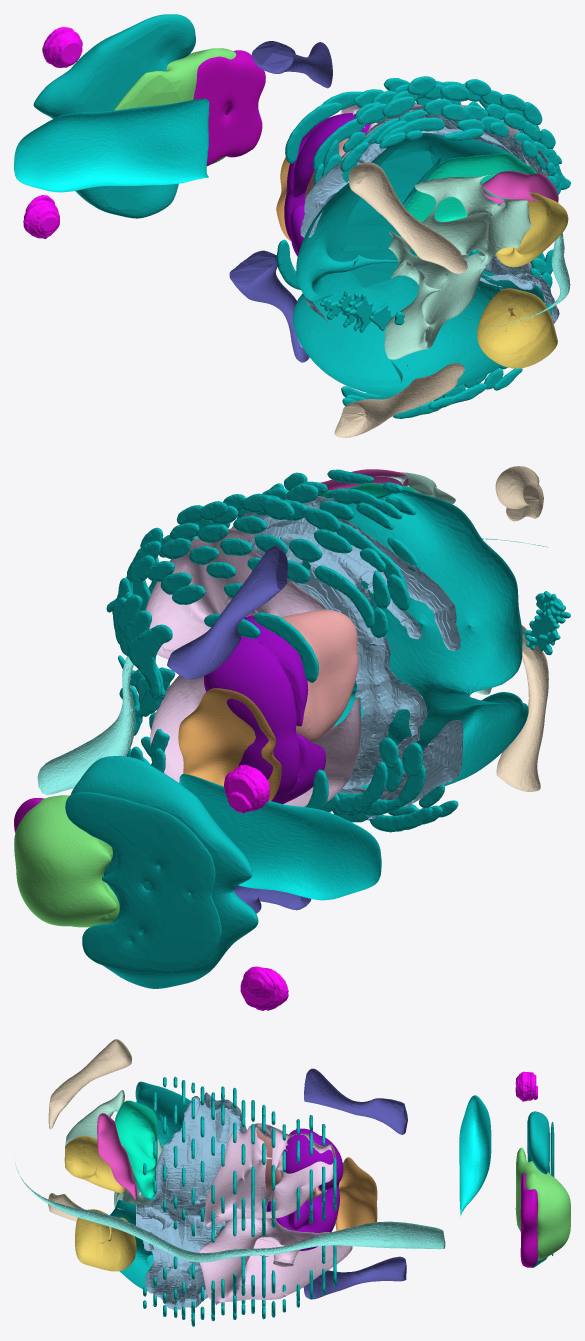
3 renders of one model, top to bottom at view 1: azimuth 30°, elevation 25°; view 2: azimuth 150°, elevation 25°; view 3: azimuth 270°, elevation 25°, orthographic. The views are drawn at different scales.
Parts seen in each view (by area): view 1: EMAPA16846, EMAPA18010, EMAPA17185, EMAPA17503, EMAPA16895, EMAPA17373, EMAPA19143, EMAPA16916, EMAPA19106, EMAPA17701, EMAPA17021, EMAPA16974 (+6 smaller); view 2: EMAPA18010, EMAPA16895, EMAPA16846, EMAPA17701, EMAPA17185, EMAPA16728, EMAPA16688, EMAPA16974, EMAPA19106, EMAPA18768, EMAPA19143, EMAPA17331 (+5 smaller); view 3: EMAPA16728, EMAPA17701, EMAPA18010, EMAPA17577, EMAPA17373, EMAPA19106, EMAPA16974, EMAPA16688, EMAPA16846, EMAPA17185, EMAPA17021, EMAPA19143 (+7 smaller).
Boxes of the visible parts, left/top/right/bottom form: EMAPA16846: left=293, top=132, right=544, bottom=396; EMAPA18010: left=276, top=76, right=570, bottom=418; EMAPA17185: left=14, top=98, right=209, bottom=192; EMAPA17503: left=384, top=174, right=531, bottom=359; EMAPA16895: left=33, top=14, right=195, bottom=218; EMAPA17373: left=477, top=192, right=568, bottom=368; EMAPA19143: left=334, top=162, right=467, bottom=437; EMAPA16916: left=193, top=50, right=265, bottom=165; EMAPA19106: left=229, top=41, right=332, bottom=362; EMAPA17701: left=297, top=105, right=559, bottom=384; EMAPA17021: left=405, top=153, right=537, bottom=222; EMAPA16974: left=113, top=48, right=236, bottom=164; EMAPA18010: left=106, top=469, right=458, bottom=832; EMAPA16895: left=65, top=756, right=258, bottom=988; EMAPA16846: left=302, top=490, right=528, bottom=787; EMAPA17701: left=231, top=496, right=463, bottom=819; EMAPA17185: left=179, top=774, right=381, bottom=900; EMAPA16728: left=145, top=528, right=361, bottom=806; EMAPA16688: left=204, top=615, right=325, bottom=804; EMAPA16974: left=14, top=795, right=119, bottom=927; EMAPA19106: left=167, top=545, right=311, bottom=913; EMAPA18768: left=178, top=688, right=281, bottom=800; EMAPA19143: left=495, top=466, right=548, bottom=791; EMAPA17331: left=281, top=610, right=358, bottom=743; EMAPA16728: left=199, top=1123, right=352, bottom=1304; EMAPA17701: left=136, top=1092, right=246, bottom=1309; EMAPA18010: left=143, top=1076, right=336, bottom=1326; EMAPA17577: left=14, top=1156, right=445, bottom=1262; EMAPA17373: left=64, top=1136, right=136, bottom=1271; EMAPA19106: left=303, top=1068, right=407, bottom=1299; EMAPA16974: left=515, top=1147, right=570, bottom=1260; EMAPA16688: left=266, top=1128, right=343, bottom=1250; EMAPA16846: left=110, top=1081, right=224, bottom=1291; EMAPA17185: left=459, top=1095, right=491, bottom=1215; EMAPA17021: left=114, top=1100, right=157, bottom=1198; EMAPA19143: left=48, top=1039, right=131, bottom=1221.
Bounding box in the file's own units: 631 × 485 × 1034.
